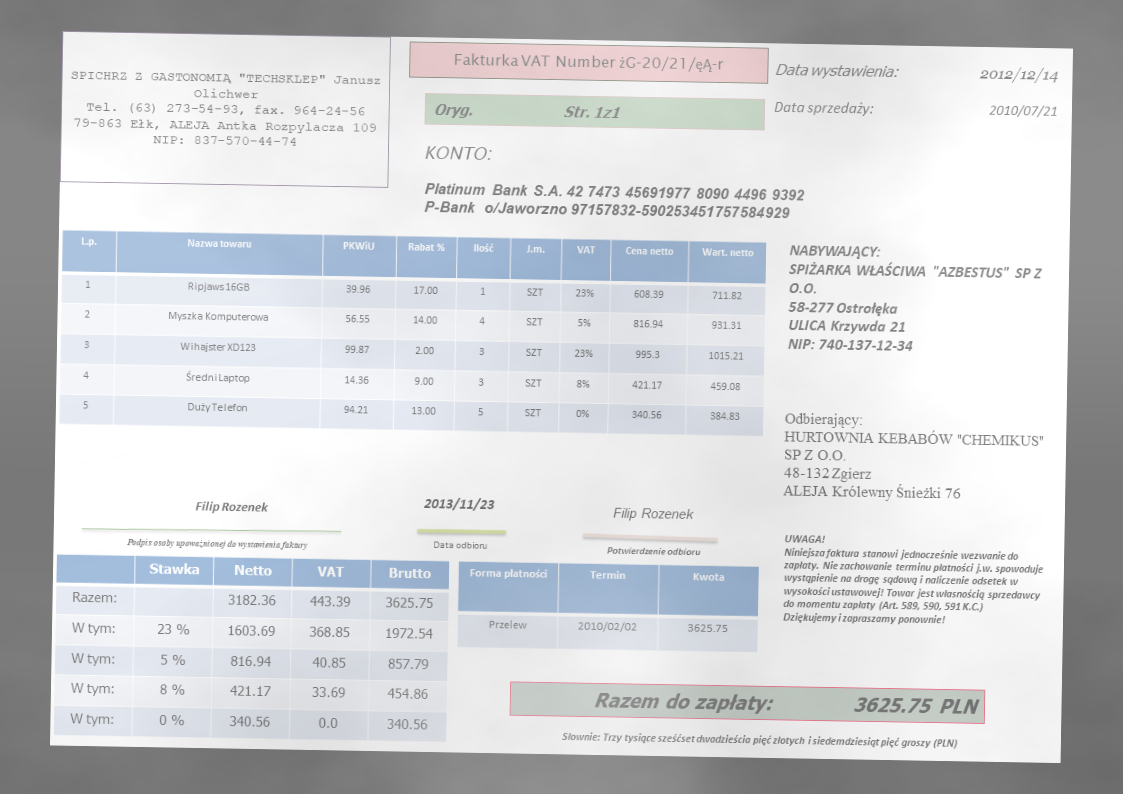Table: (57, 228, 768, 437), (51, 553, 450, 742), (456, 558, 762, 655)
TextBox: (785, 242, 1047, 358), (69, 66, 381, 153), (781, 531, 1046, 629), (781, 411, 1045, 504), (422, 179, 810, 225), (592, 686, 980, 719), (559, 729, 960, 752), (451, 49, 727, 76), (433, 100, 623, 124), (125, 535, 310, 552), (772, 60, 903, 81), (770, 99, 876, 119), (609, 503, 697, 524), (978, 65, 1060, 85), (420, 494, 495, 514), (604, 544, 703, 559), (985, 100, 1059, 120), (423, 143, 493, 164), (194, 497, 269, 516), (429, 537, 488, 553)
